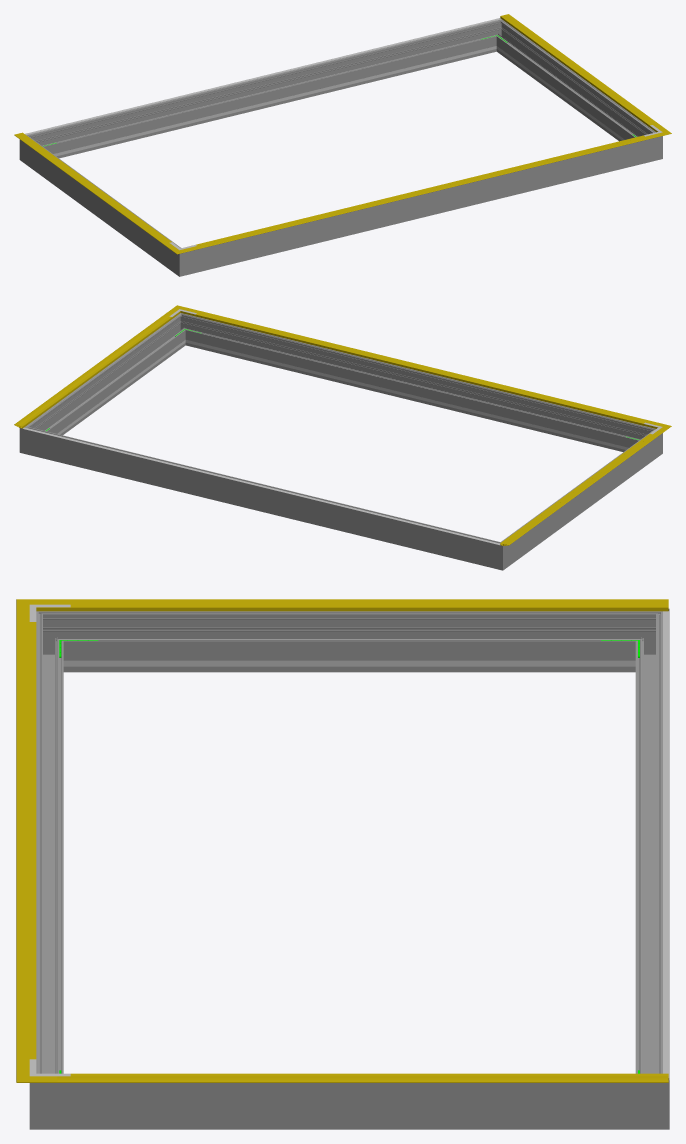
3 views of the same model, one above another, from view 1: azimuth 30°, elevation 25°; view 2: azimuth 150°, elevation 25°; view 3: azimuth 270°, elevation 25° (orthographic). The views are drawn at different scales.
Visible parts, largest first — view 1: 3DGeom-278, 3DGeom-300, 3DGeom-299, 3DGeom-270, 3DGeom-141, 3DGeom-246, 3DGeom-145, 3DGeom-222, 3DGeom-147, 3DGeom-158, 3DGeom-272, 3DGeom-152 (+4 smaller); view 2: 3DGeom-300, 3DGeom-278, 3DGeom-299, 3DGeom-270, 3DGeom-141, 3DGeom-241, 3DGeom-145, 3DGeom-222, 3DGeom-147, 3DGeom-158, 3DGeom-280, 3DGeom-286 (+4 smaller); view 3: 3DGeom-270, 3DGeom-299, 3DGeom-278, 3DGeom-300, 3DGeom-147, 3DGeom-141, 3DGeom-145, 3DGeom-158, 3DGeom-234, 3DGeom-222, 3DGeom-152, 3DGeom-154 (+4 smaller).
Part boxes in pixels (x1=…): 3DGeom-278: x1=39, y1=23, x2=493, y2=158; 3DGeom-300: x1=197, y1=140, x2=645, y2=272; 3DGeom-299: x1=498, y1=25, x2=649, y2=141; 3DGeom-270: x1=29, y1=141, x2=174, y2=268; 3DGeom-141: x1=192, y1=135, x2=653, y2=249; 3DGeom-246: x1=59, y1=50, x2=479, y2=155; 3DGeom-145: x1=500, y1=14, x2=661, y2=129; 3DGeom-222: x1=25, y1=18, x2=501, y2=134; 3DGeom-147: x1=14, y1=133, x2=172, y2=246; 3DGeom-158: x1=196, y1=135, x2=644, y2=245; 3DGeom-272: x1=169, y1=243, x2=197, y2=276; 3DGeom-152: x1=500, y1=15, x2=652, y2=125; 3DGeom-300: x1=188, y1=316, x2=643, y2=451; 3DGeom-278: x1=37, y1=430, x2=488, y2=566; 3DGeom-299: x1=32, y1=319, x2=183, y2=435; 3DGeom-270: x1=507, y1=435, x2=652, y2=562; 3DGeom-141: x1=189, y1=309, x2=653, y2=426; 3DGeom-241: x1=202, y1=344, x2=622, y2=448; 3DGeom-145: x1=14, y1=312, x2=175, y2=428; 3DGeom-222: x1=23, y1=427, x2=500, y2=544; 3DGeom-147: x1=500, y1=432, x2=661, y2=545; 3DGeom-158: x1=196, y1=313, x2=644, y2=423; 3DGeom-280: x1=485, y1=537, x2=513, y2=570; 3DGeom-286: x1=19, y1=421, x2=40, y2=456; 3DGeom-270: x1=70, y1=611, x2=628, y2=672; 3DGeom-299: x1=70, y1=1083, x2=628, y2=1129; 3DGeom-278: x1=635, y1=625, x2=669, y2=1073; 3DGeom-300: x1=36, y1=625, x2=63, y2=1073; 3DGeom-147: x1=57, y1=599, x2=668, y2=611; 3DGeom-141: x1=16, y1=616, x2=29, y2=1064; 3DGeom-145: x1=57, y1=1076, x2=668, y2=1082; 3DGeom-158: x1=29, y1=622, x2=36, y2=1059; 3DGeom-234: x1=103, y1=660, x2=595, y2=666; 3DGeom-222: x1=663, y1=611, x2=669, y2=1077; 3DGeom-152: x1=70, y1=1073, x2=668, y2=1076; 3DGeom-154: x1=70, y1=604, x2=668, y2=607.
Bounding box in the file's own units: 4.27 × 0.2195 × 2.44.
